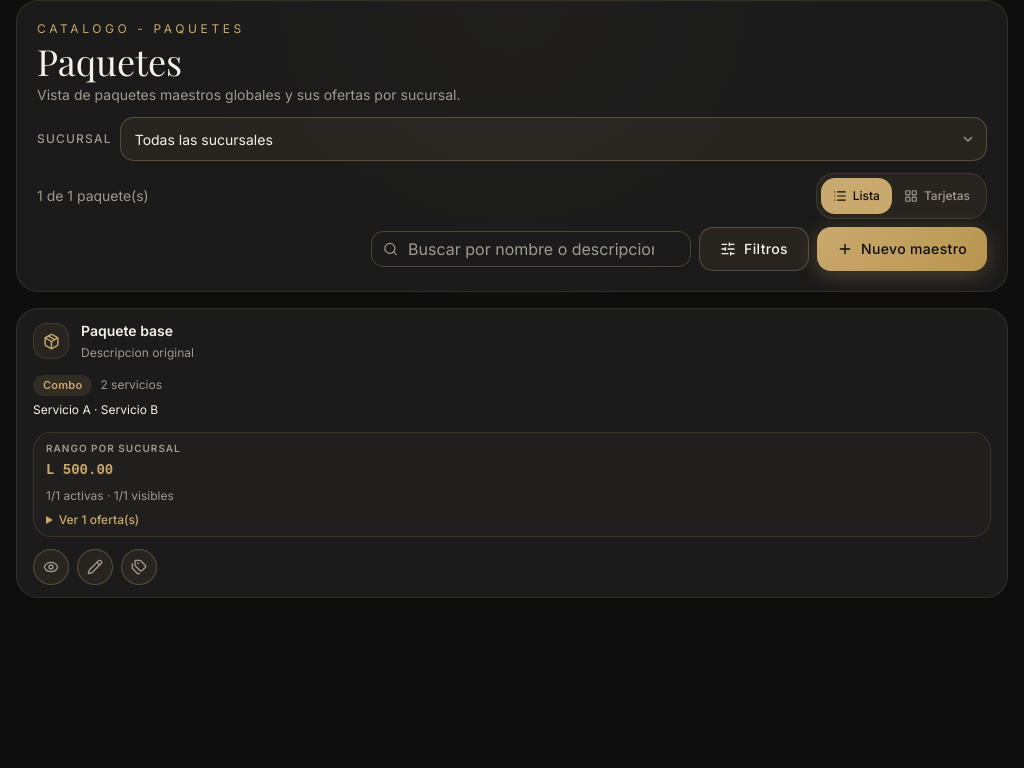
Test case: alcance, concurrencia y disponibilidad de paquetes › A tardía no afecta datos ni navegación de B: resolve
Expected: the heading "Paquete base" is shown, [81,322,173,339]
Select "Centro" in the dropdown labelled "Sucursal" at (553, 139), box [120,117,987,161]
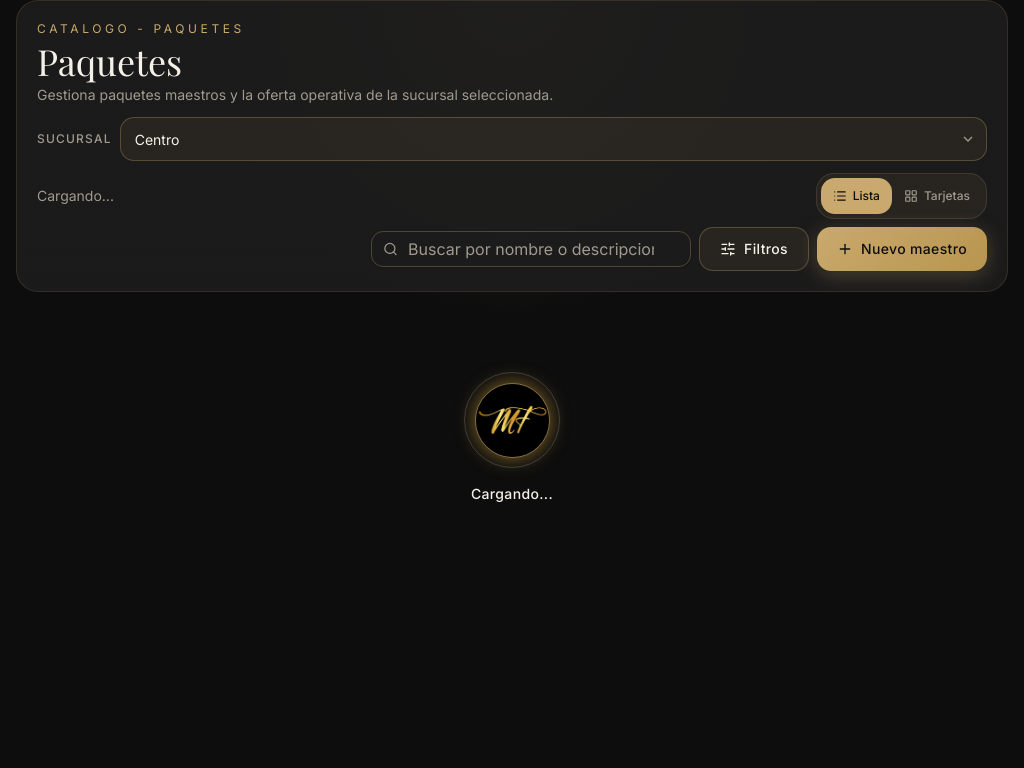
Select "Norte" in the dropdown labelled "Sucursal" at (553, 139), box [120,117,987,161]
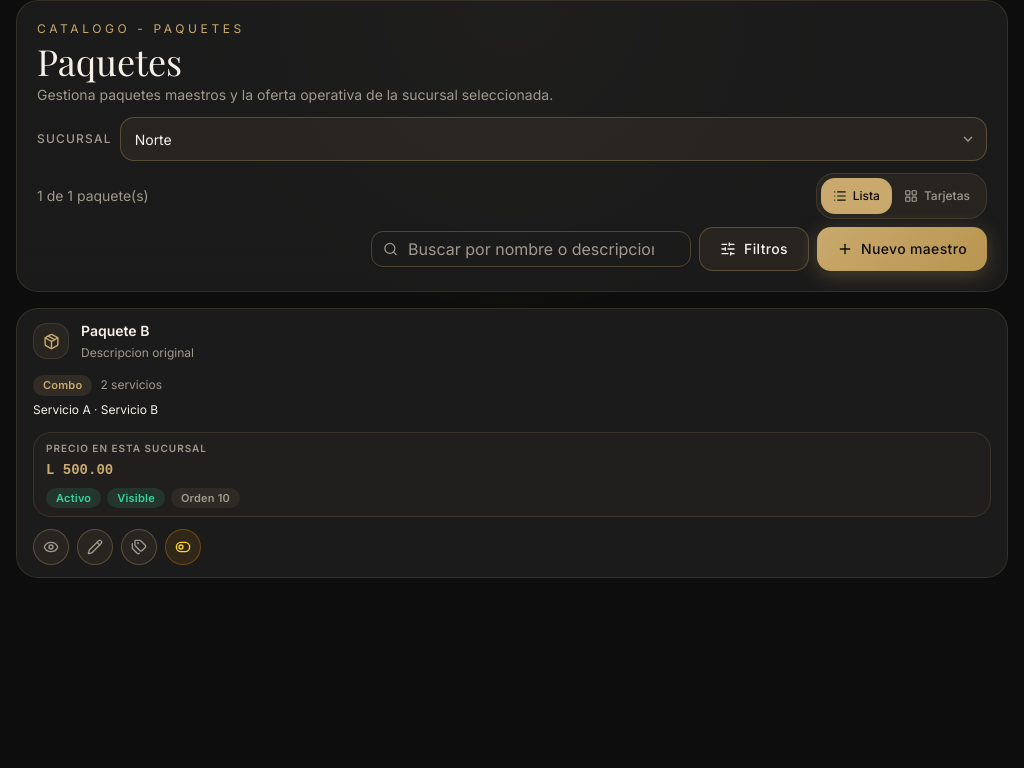
Expected: the heading "Paquete B" is shown, [81,322,149,339]
